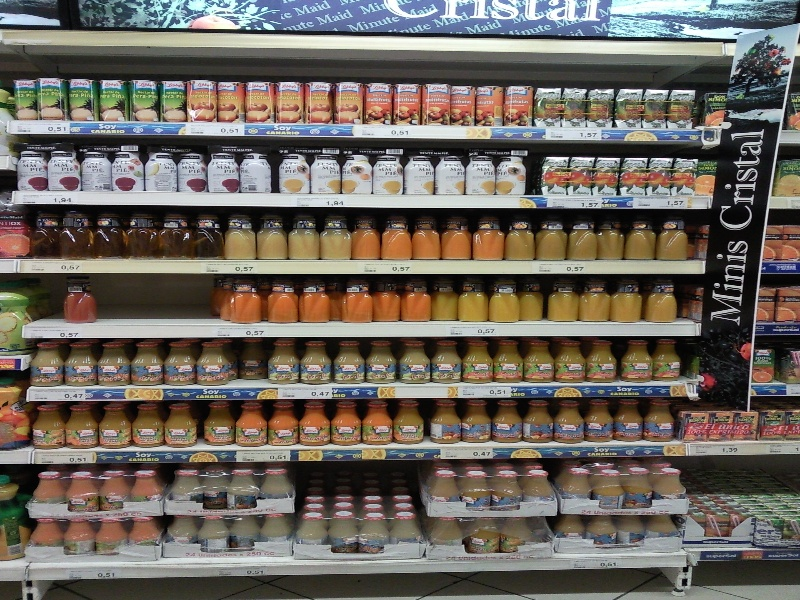juice: (40, 74, 72, 126), (275, 78, 307, 128), (393, 80, 425, 129), (99, 78, 132, 124), (333, 79, 365, 126), (69, 78, 101, 124), (130, 78, 161, 124), (476, 84, 506, 131), (161, 76, 188, 128), (366, 77, 393, 129), (306, 82, 337, 127), (241, 81, 272, 124), (424, 80, 451, 126)
